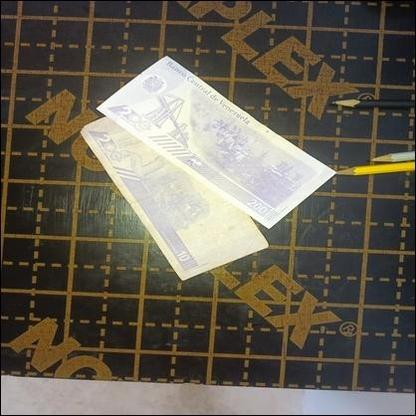ten-back-vef: (82, 102, 268, 280)
two_hundred-back-vef: (95, 55, 336, 228)
